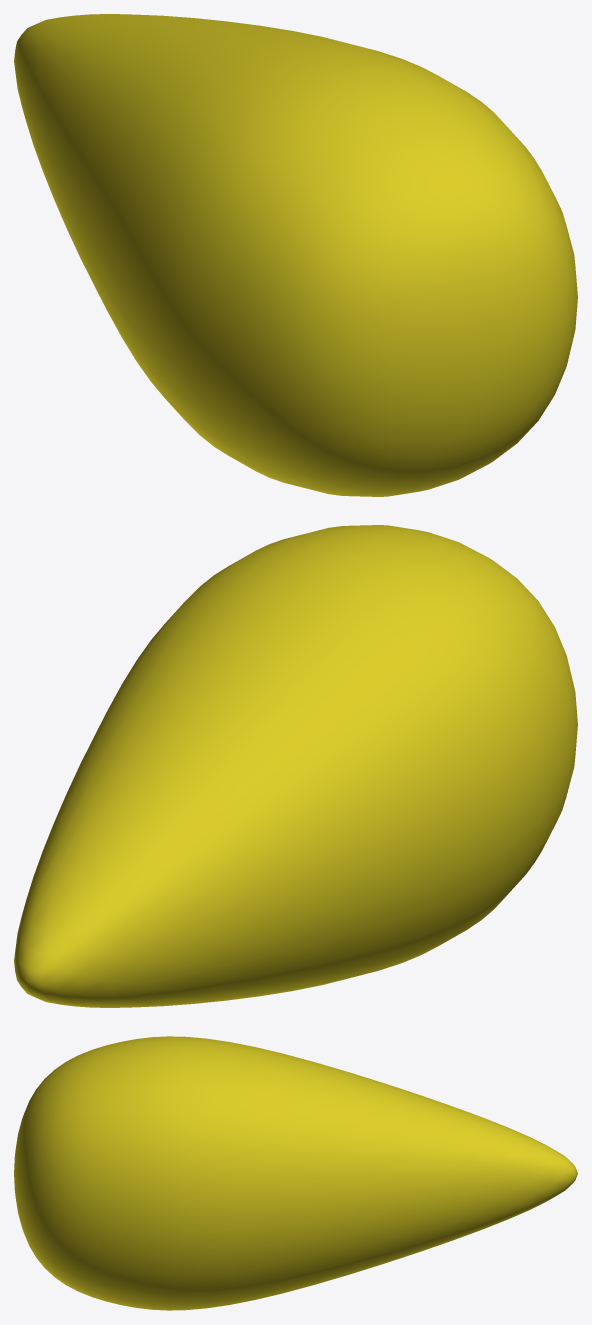
File: Electric_bullet.fbx
The picture shows the model from 3 angles, top to bottom: view 1: azimuth 30°, elevation 25°; view 2: azimuth 150°, elevation 25°; view 3: azimuth 270°, elevation 25°; orthographic projection. The views are drawn at different scales.
Parts seen in each view (by area): view 1: pCube2; view 2: pCube2; view 3: pCube2.
Boxes of the visible parts, box(x1,y1,x2,y2) form: pCube2: box(14, 14, 577, 496); pCube2: box(14, 525, 577, 1007); pCube2: box(14, 1036, 577, 1310).
Bounding box in the file's own units: 1.8 × 1.8 × 3.76.
